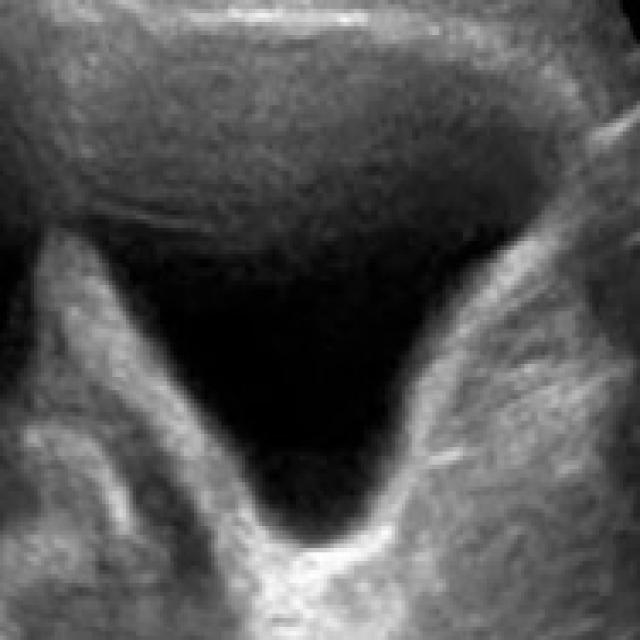bladder: (52, 16, 613, 598)
